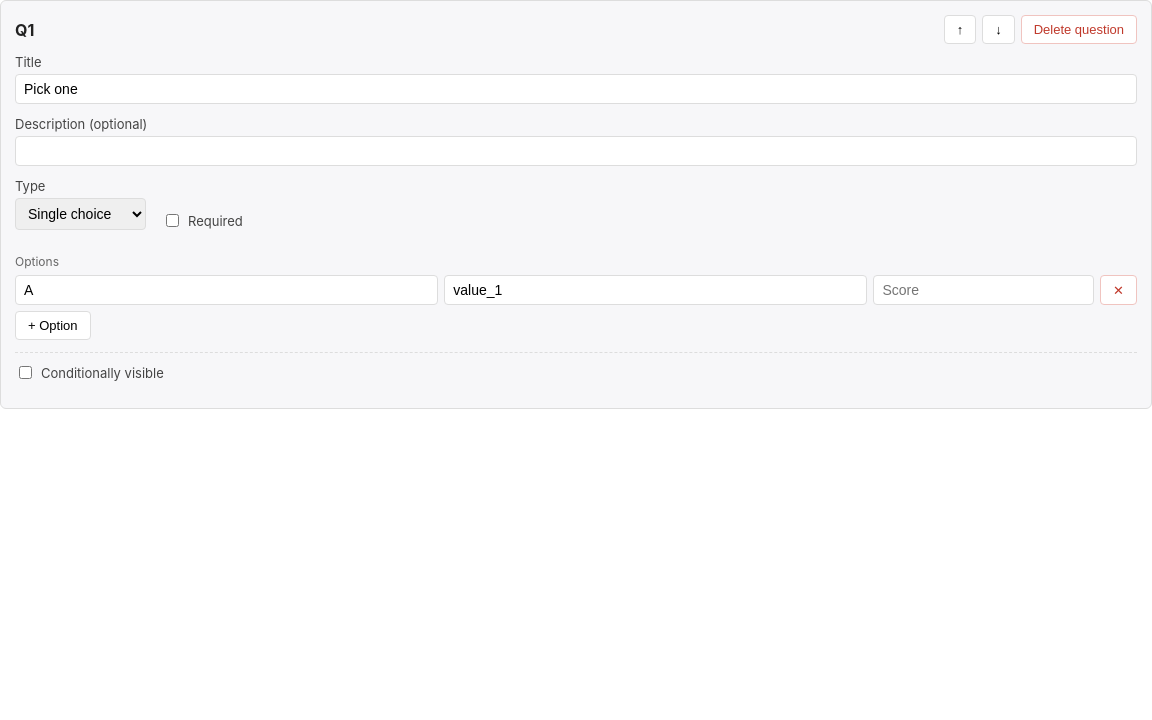
Test: QuestionEditor — conditional visibility › warns when there are no earlier questions to reference (forward-reference constraint)
The width and height of the screenshot is (1152, 720).
Click the checkbox labelled "Conditionally visible".
click(26, 372)  # box [19,366,32,379]
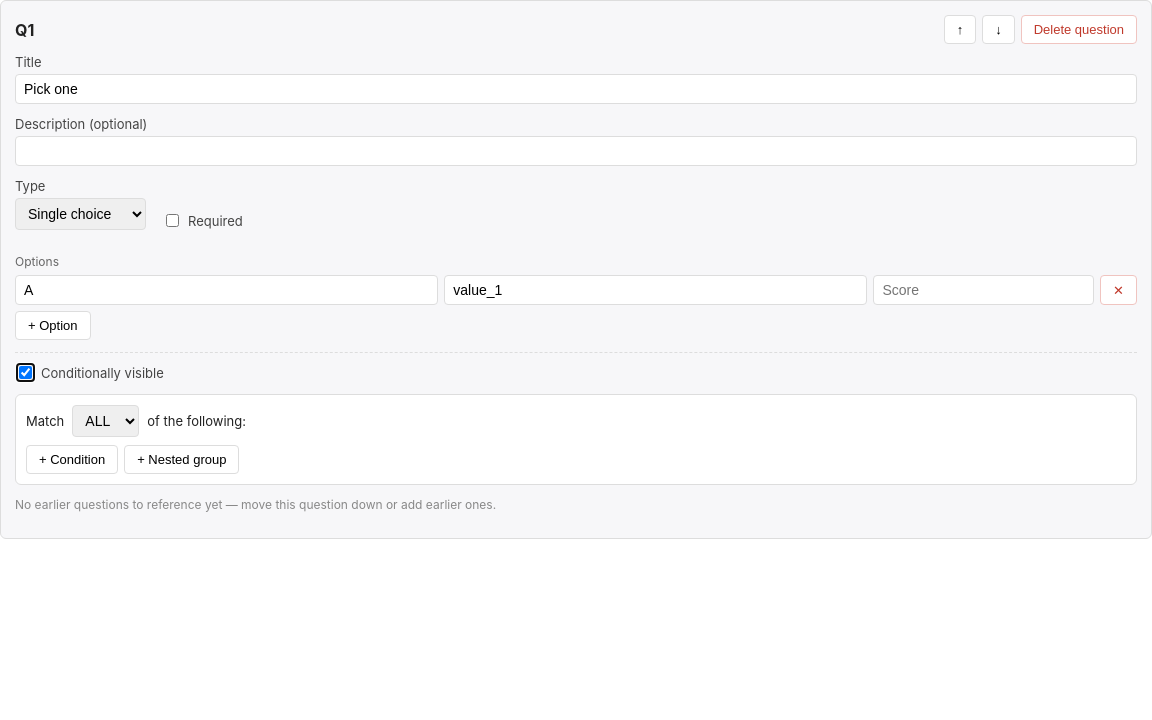
expect the text "No earlier questions to reference yet" is shown: met, box [15,497,496,512]
